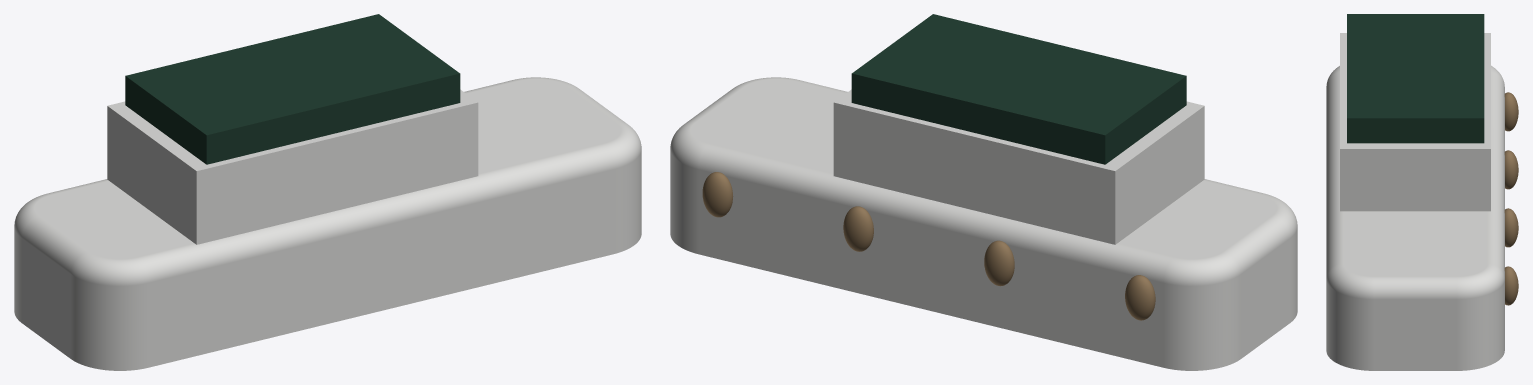
File: f32-moored-cruiser.glb
3 views of the same model, side by side, from view 1: azimuth 30°, elevation 25°; view 2: azimuth 150°, elevation 25°; view 3: azimuth 270°, elevation 25° (orthographic). The views are drawn at different scales.
Visible parts, largest first — view 1: part0, part2, part1; view 2: part0, part2, part1, part5, part3, part4, part6; view 3: part0, part2, part1, part3, part5, part6, part4.
Part boxes in pixels (x1,y1,x2,y2): part0: [14, 77, 641, 370]; part2: [125, 14, 460, 164]; part1: [107, 89, 478, 244]; part0: [670, 77, 1297, 370]; part2: [851, 14, 1186, 164]; part1: [833, 89, 1204, 244]; part5: [843, 206, 873, 251]; part3: [1125, 275, 1155, 320]; part4: [984, 240, 1014, 286]; part6: [702, 172, 733, 217]; part0: [1326, 65, 1504, 370]; part2: [1347, 14, 1484, 143]; part1: [1340, 33, 1490, 211]; part3: [1504, 92, 1518, 131]; part5: [1504, 208, 1518, 247]; part6: [1504, 266, 1518, 305]; part4: [1504, 150, 1518, 189].
Bounding box in the file's own units: 8000 × 2800 × 2800.
